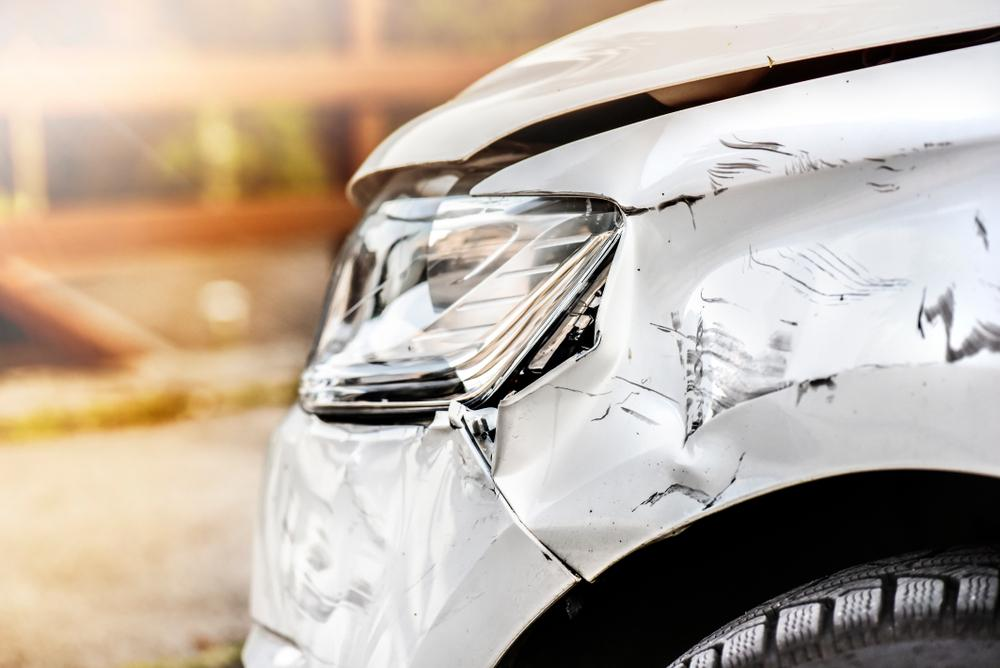dent: (495, 112, 1000, 540)
scratch: (275, 423, 390, 633)
